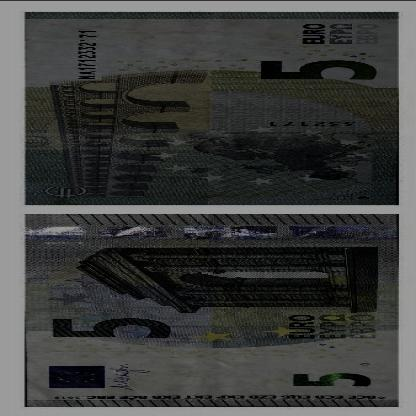euro_banknote: (25, 12, 400, 208), (25, 215, 401, 409)
